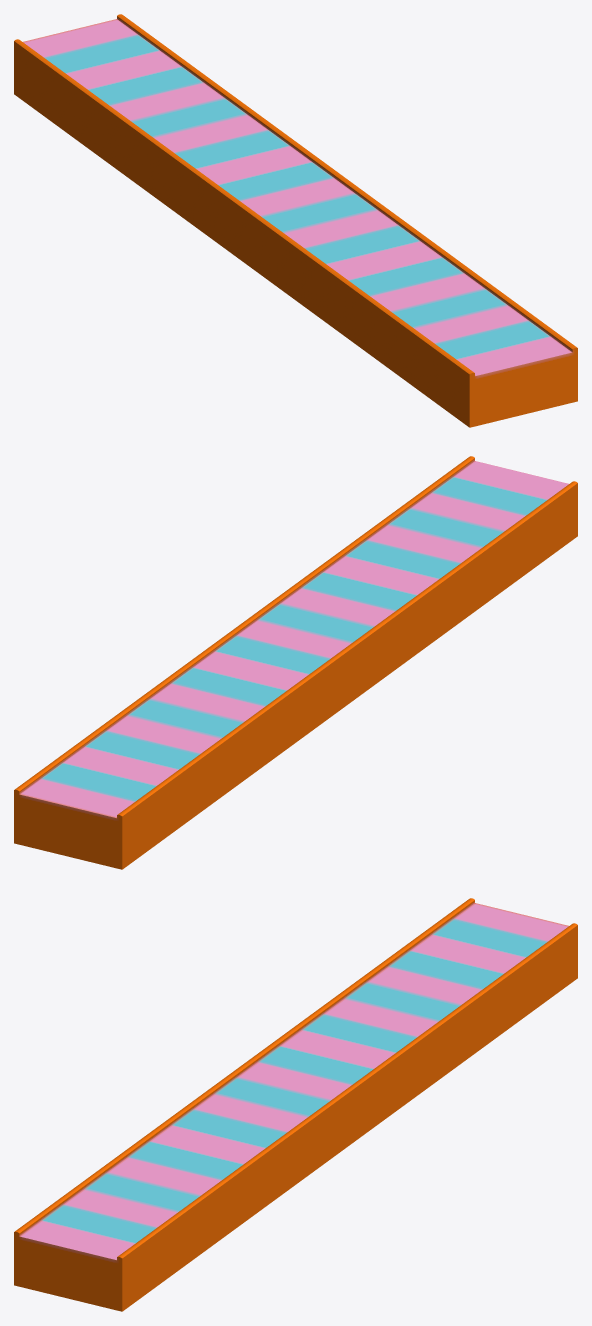
File: road.fbx
3 views of the same model, one above another, from view 1: azimuth 30°, elevation 25°; view 2: azimuth 150°, elevation 25°; view 3: azimuth 330°, elevation 25° (orthographic).
Parts seen in each view (by area): view 1: Road.001; view 2: Road.001; view 3: Road.001.
Boxes of the visible parts, x1,y1,x2,y2 form: Road.001: [14, 14, 577, 427]; Road.001: [14, 456, 577, 869]; Road.001: [14, 898, 577, 1311].
Size of the model in its own units: 451 by 215 by 3290.
